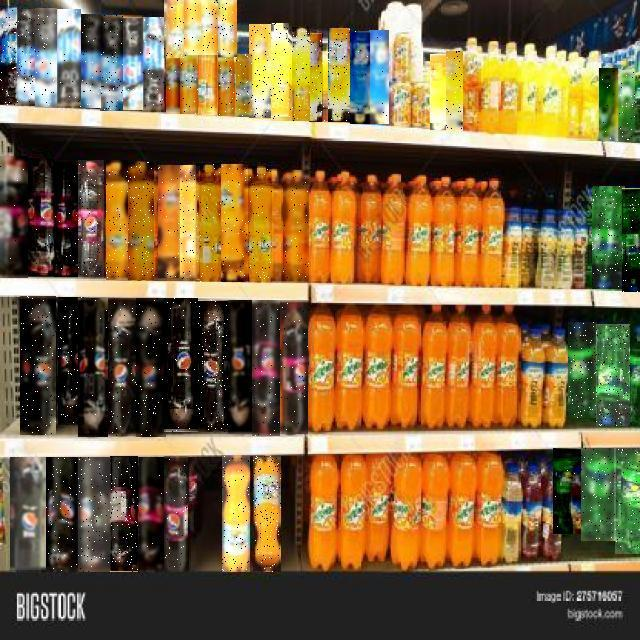Drinks: (21, 296, 57, 435), (164, 299, 198, 433), (78, 298, 108, 437), (136, 298, 166, 437), (11, 458, 47, 572), (197, 300, 228, 432), (46, 458, 80, 572), (109, 298, 137, 436), (252, 301, 280, 437), (78, 457, 111, 572), (280, 301, 308, 435), (596, 325, 630, 427), (0, 156, 28, 278), (592, 186, 625, 289), (59, 297, 85, 425), (27, 158, 55, 276), (110, 456, 138, 572), (222, 456, 250, 572), (253, 456, 281, 572), (228, 300, 252, 434), (582, 448, 616, 541), (196, 163, 222, 282), (129, 162, 155, 280), (79, 160, 105, 278), (222, 164, 248, 282), (283, 170, 309, 281), (139, 458, 164, 572), (568, 322, 597, 418), (164, 456, 188, 572), (54, 161, 78, 277), (248, 167, 272, 283), (158, 165, 182, 278), (615, 448, 640, 554), (106, 160, 128, 280), (56, 10, 81, 108), (553, 449, 581, 535), (180, 166, 200, 280), (100, 15, 123, 111), (35, 8, 57, 107), (328, 29, 350, 123), (249, 25, 271, 119), (142, 18, 164, 112), (272, 24, 292, 120), (16, 10, 36, 106), (369, 31, 389, 125), (81, 15, 101, 109), (622, 188, 640, 292), (350, 31, 370, 124), (123, 18, 143, 110), (292, 27, 310, 121), (0, 6, 17, 105), (310, 33, 326, 122), (599, 68, 618, 141), (616, 70, 635, 142), (430, 55, 448, 131), (446, 52, 463, 132), (164, 0, 184, 58), (198, 54, 217, 115), (218, 0, 237, 57), (180, 55, 198, 115), (199, 0, 218, 55), (236, 54, 252, 117), (218, 56, 234, 116), (184, 0, 201, 55), (166, 58, 180, 114)
